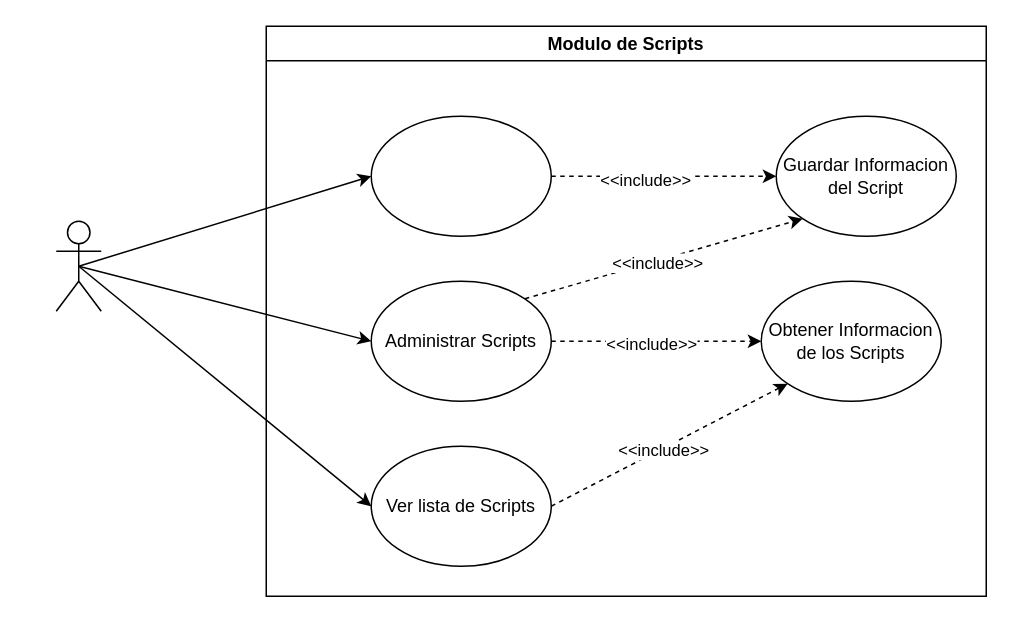
This 1013x623 diagram has some shape labels left out. Here are the shapes that lost their labels. From the top down, the centre of each, then its label:
pixel 460 175: Viincular Scripts
pixel 78 265: Administrator
